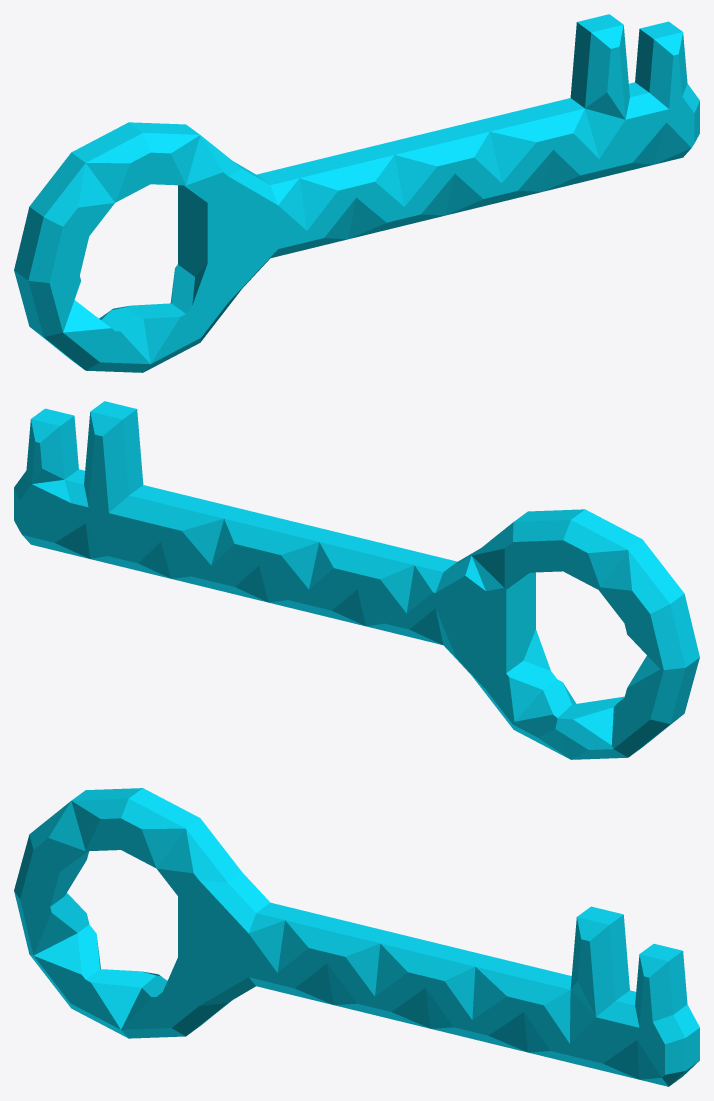
Rendered from key_blue.glb.
3 renders of one model, top to bottom at view 1: azimuth 30°, elevation 25°; view 2: azimuth 150°, elevation 25°; view 3: azimuth 330°, elevation 25°, orthographic.
Visible parts, largest first — view 1: Circle.025; view 2: Circle.025; view 3: Circle.025.
Part boxes in pixels (left/top/right/bottom): Circle.025: left=14, top=14, right=699, bottom=372; Circle.025: left=14, top=401, right=699, bottom=759; Circle.025: left=14, top=788, right=699, bottom=1086.
Size of the model in its own units: 1.89 by 0.6454 by 0.183.
1 material, 1 textured.
